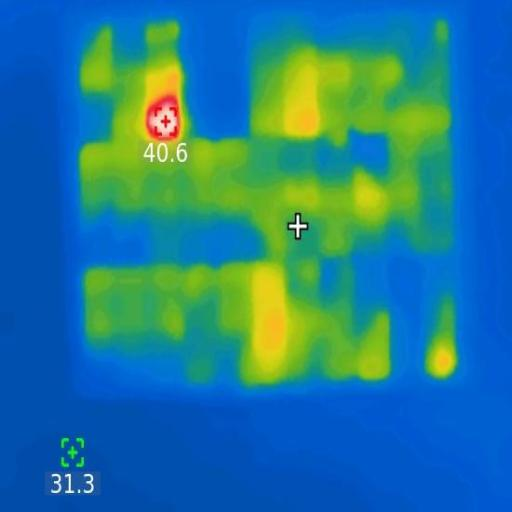hotspot: (144, 98, 182, 144)
